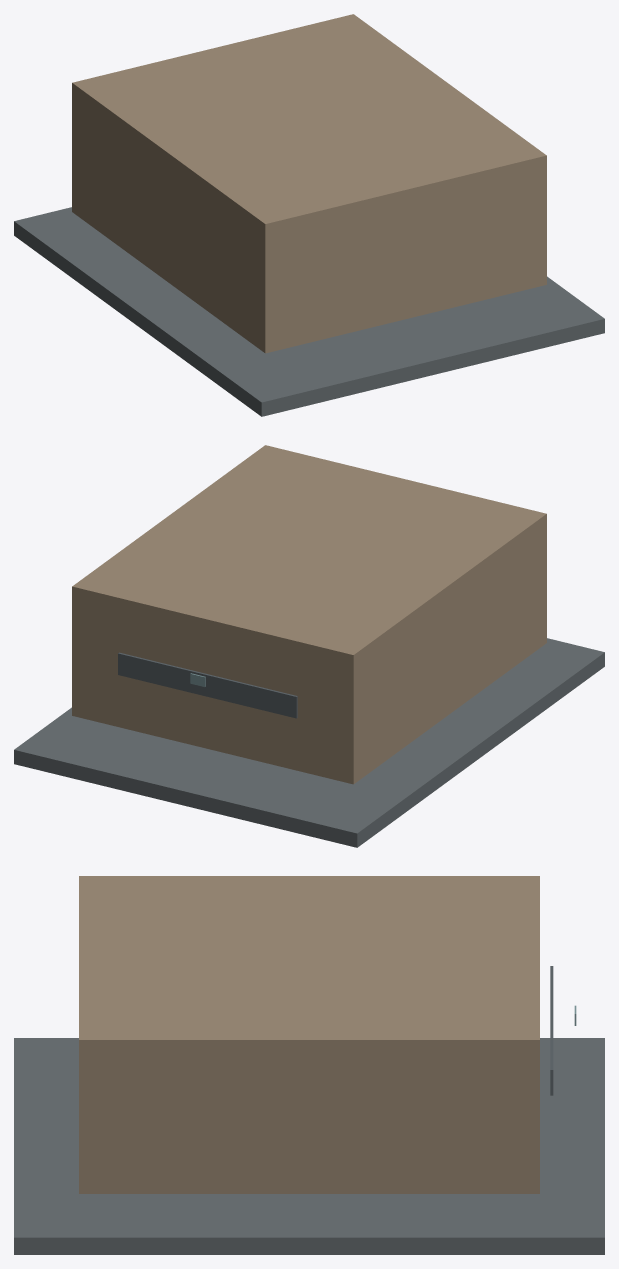
The model's file is iz3_school_gym_02.glb.
3 views of the same model, one above another, from view 1: azimuth 30°, elevation 25°; view 2: azimuth 150°, elevation 25°; view 3: azimuth 270°, elevation 25° (orthographic). The views are drawn at different scales.
Parts seen in each view (by area): view 1: cabinet, base; view 2: cabinet, base, panel; view 3: cabinet, base, panel.
Boxes of the visible parts, x1,y1,x2,y2 form: cabinet: (72,14,546,353); base: (14,207,604,416); cabinet: (72,445,546,784); base: (14,638,604,847); panel: (118,652,297,718); cabinet: (79,876,539,1193); base: (14,1038,604,1254); panel: (550,966,553,1095).
Size of the model in its own units: 8 by 3.68 by 10.
